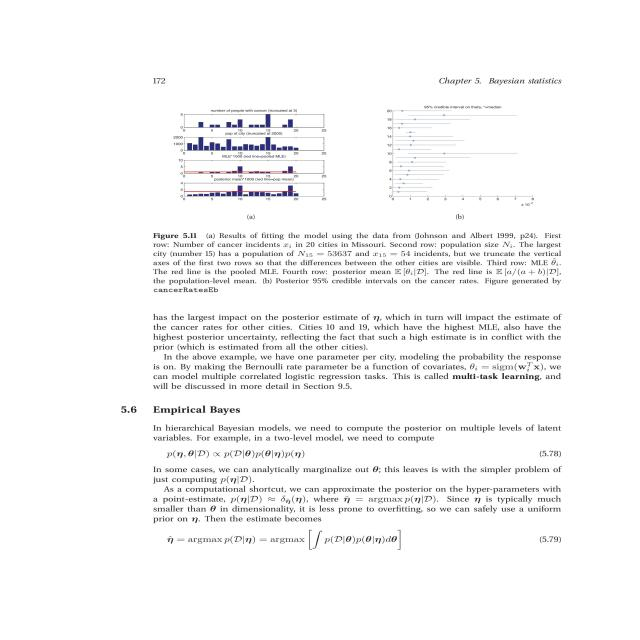diagram: (137, 93, 582, 303)
